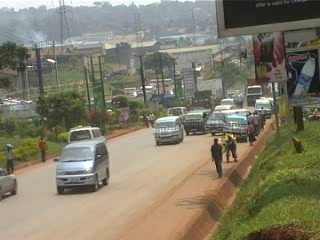Car: (51, 137, 115, 196), (0, 163, 20, 202)
